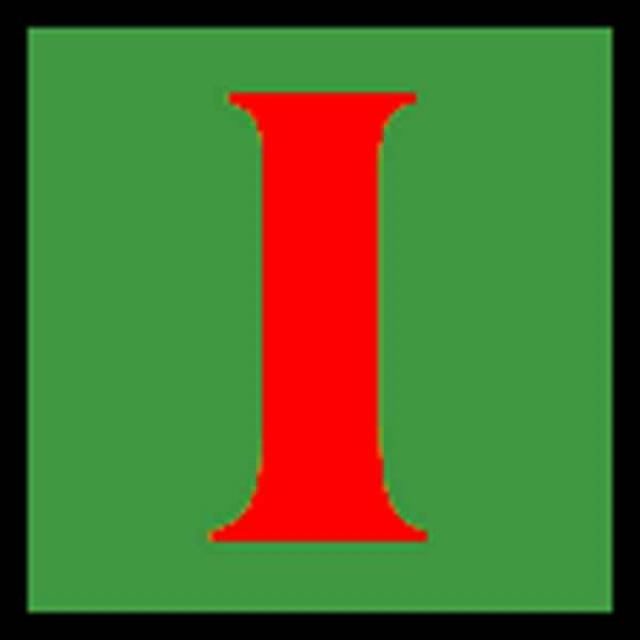I: (198, 58, 458, 610)
